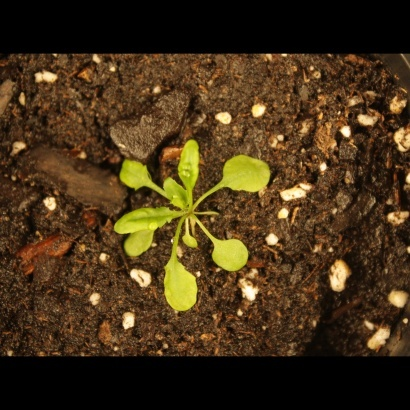leaf: (214, 149, 281, 198), (157, 256, 202, 319), (111, 206, 183, 237), (211, 234, 257, 277), (176, 135, 202, 194), (116, 154, 153, 194), (119, 230, 155, 260), (159, 174, 188, 209), (180, 229, 203, 252)
